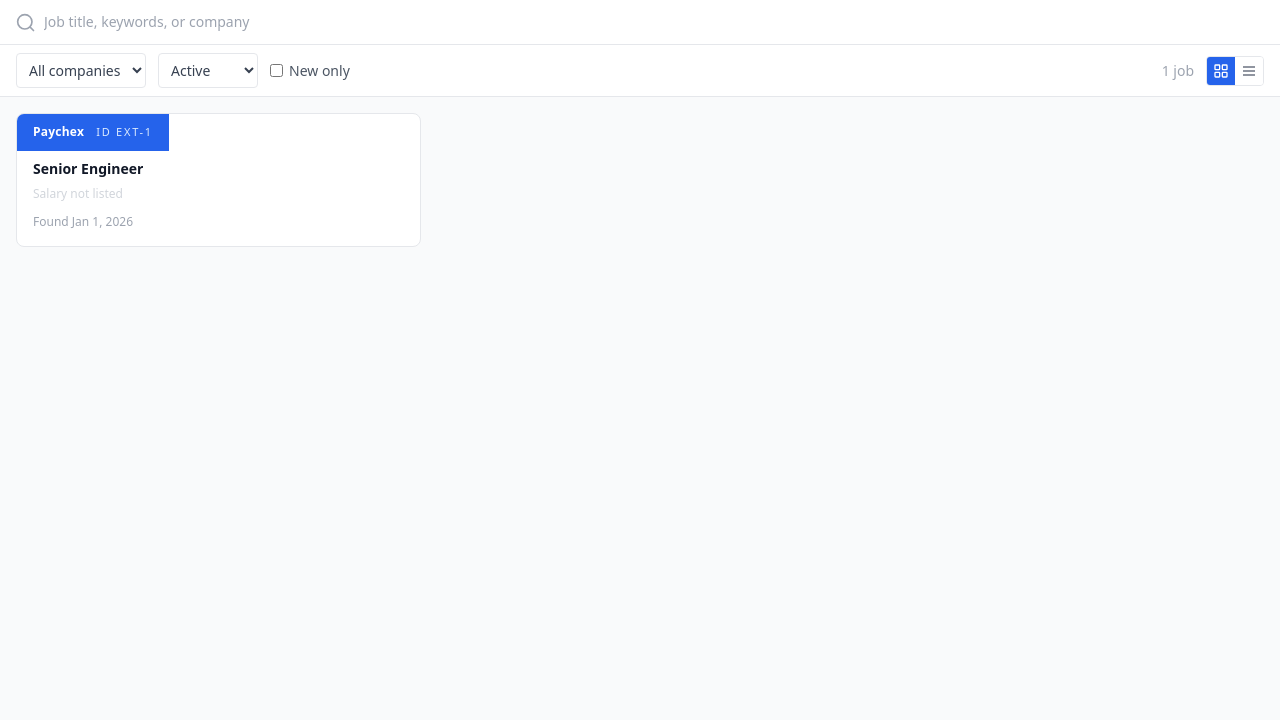
Test: job modal › opens modal when a job card is clicked
Step 1. Click the text "Senior Engineer" → click(88, 168), box [33, 158, 143, 178]
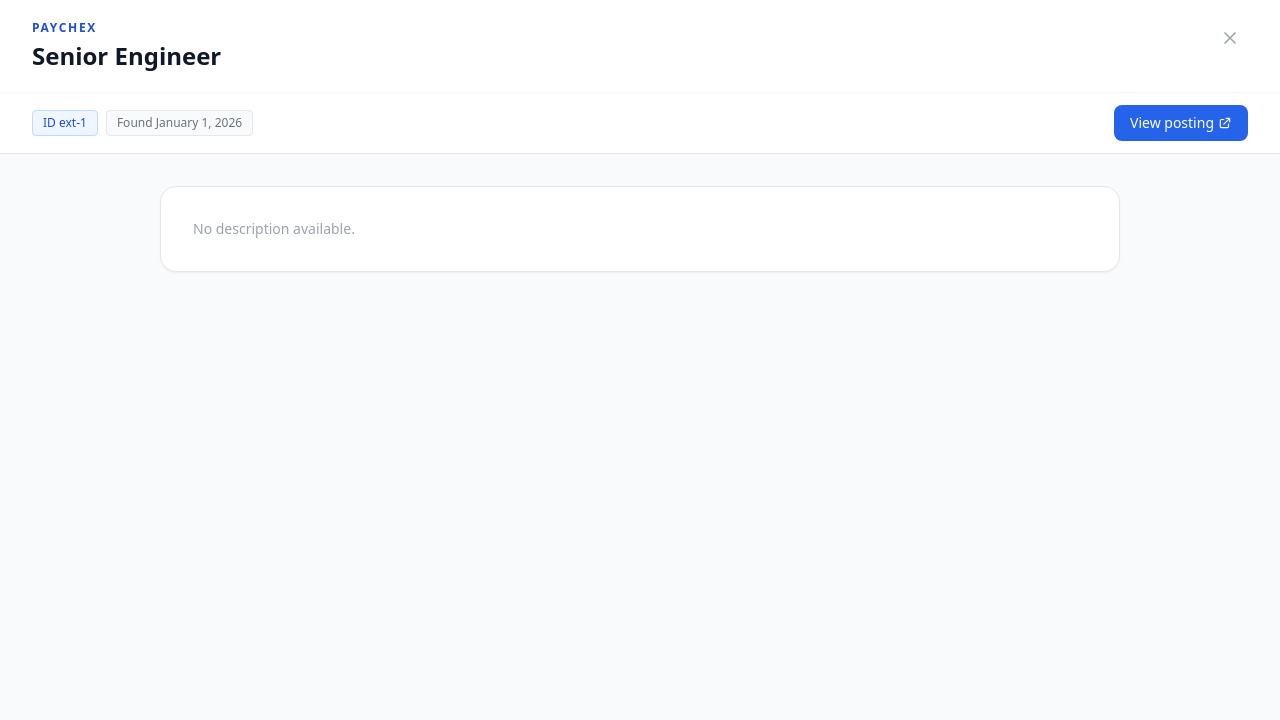
Check: the heading "Senior Engineer" is shown, box [32, 39, 221, 72]
